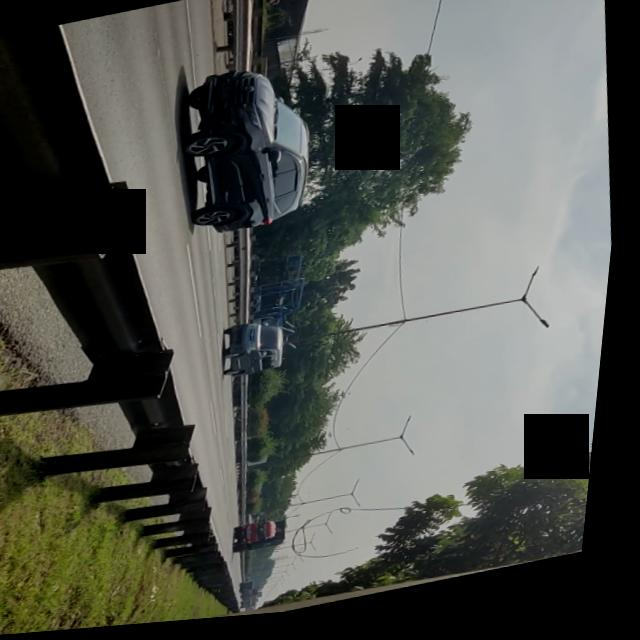Golongan I: (164, 54, 334, 249), (218, 318, 302, 387)
